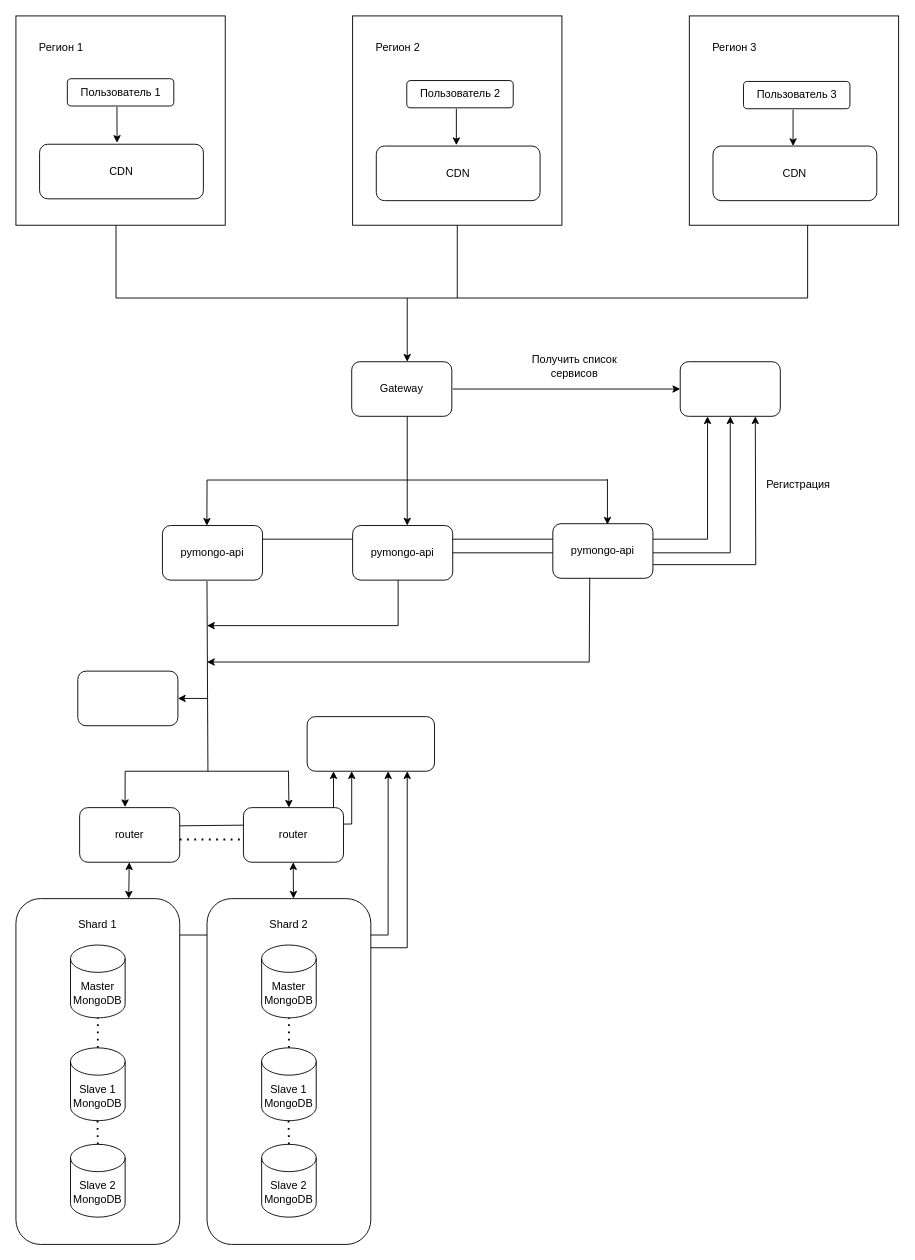
This 915x1260 diagram has some shape labels left out. The centre of each missing label's shape, as x and y in pixels:
"configuration server" belongs at (370,743).
"Consul" belongs at (729,388).
"Redis Cache" belongs at (127,698).
